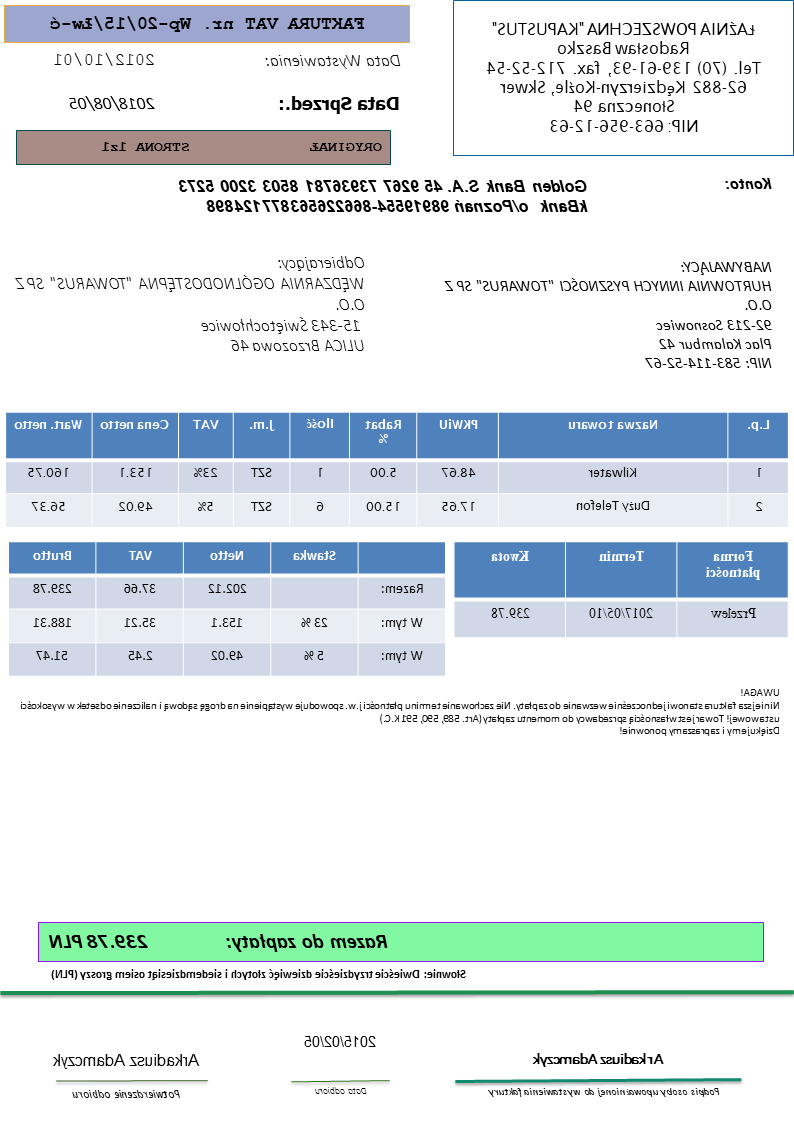Table: (5, 411, 790, 530), (8, 540, 447, 676), (453, 540, 791, 639)
TextBox: (19, 685, 783, 738), (441, 257, 775, 371), (14, 253, 368, 355), (484, 18, 764, 135), (176, 177, 591, 216), (46, 930, 391, 953), (51, 965, 469, 982), (46, 12, 367, 34), (100, 136, 386, 156), (485, 1083, 723, 1100), (50, 1051, 202, 1072), (277, 92, 402, 116), (262, 51, 403, 72), (530, 1050, 666, 1069), (50, 51, 157, 71), (71, 1086, 184, 1101), (66, 94, 157, 112), (303, 1032, 379, 1050), (725, 174, 774, 193), (315, 1084, 370, 1096)
